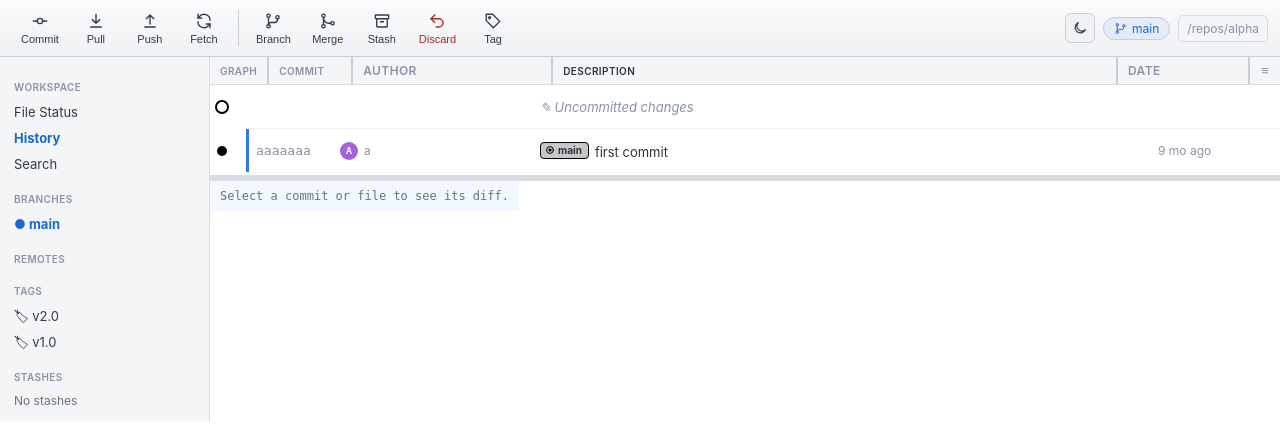
Scenario: RepoWorkspace › puts the commit box below both the file lists and the code
The image size is (1280, 438).
Click the element titled "View uncommitted changes" at (763, 107), box left=246, top=85, right=1279, bottom=129
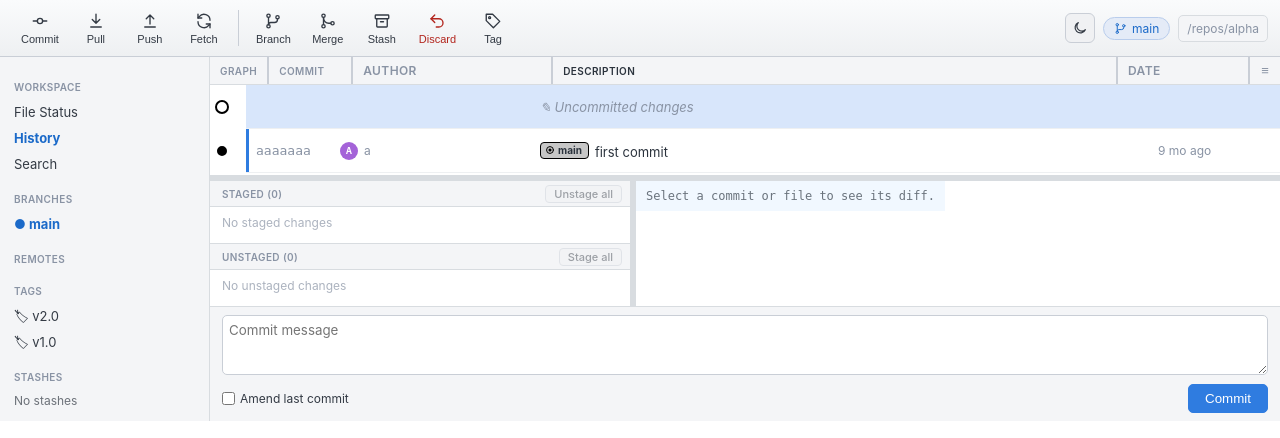
Check: the element with class "uncommitted-panel" is shown, box left=210, top=181, right=1279, bottom=421
